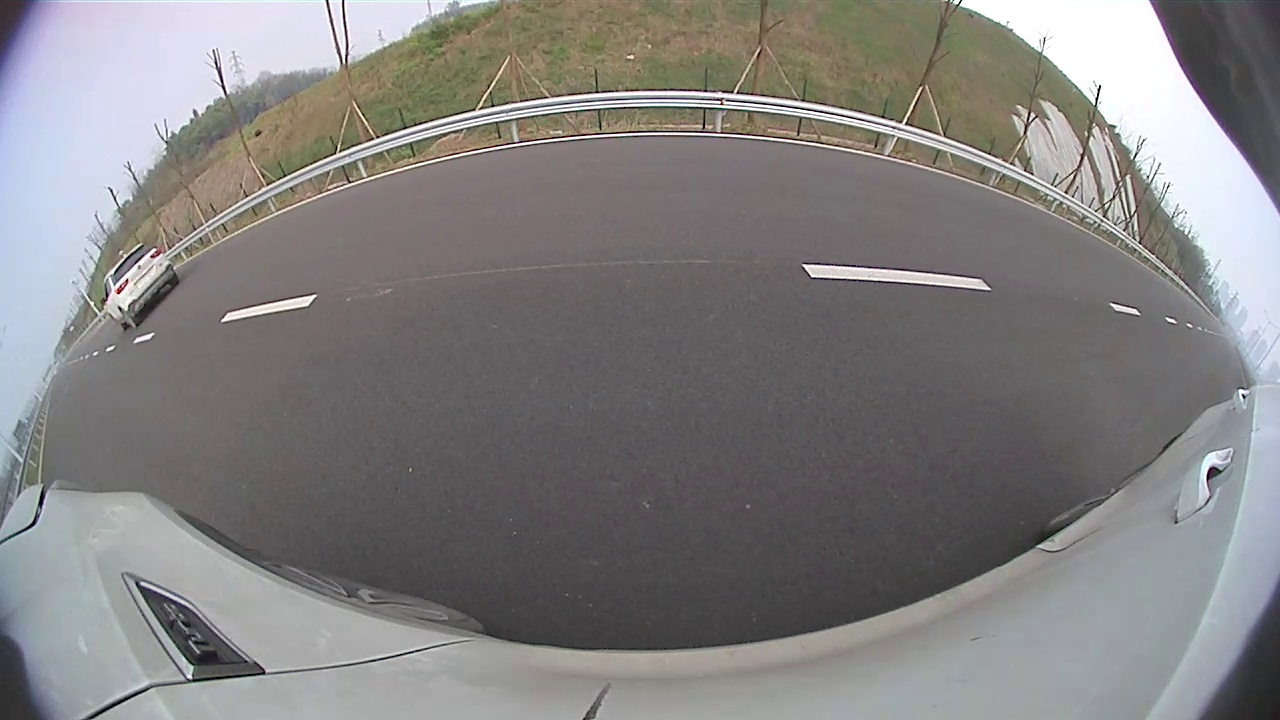car: (101, 242, 179, 330)
rear: (118, 307, 137, 330)
